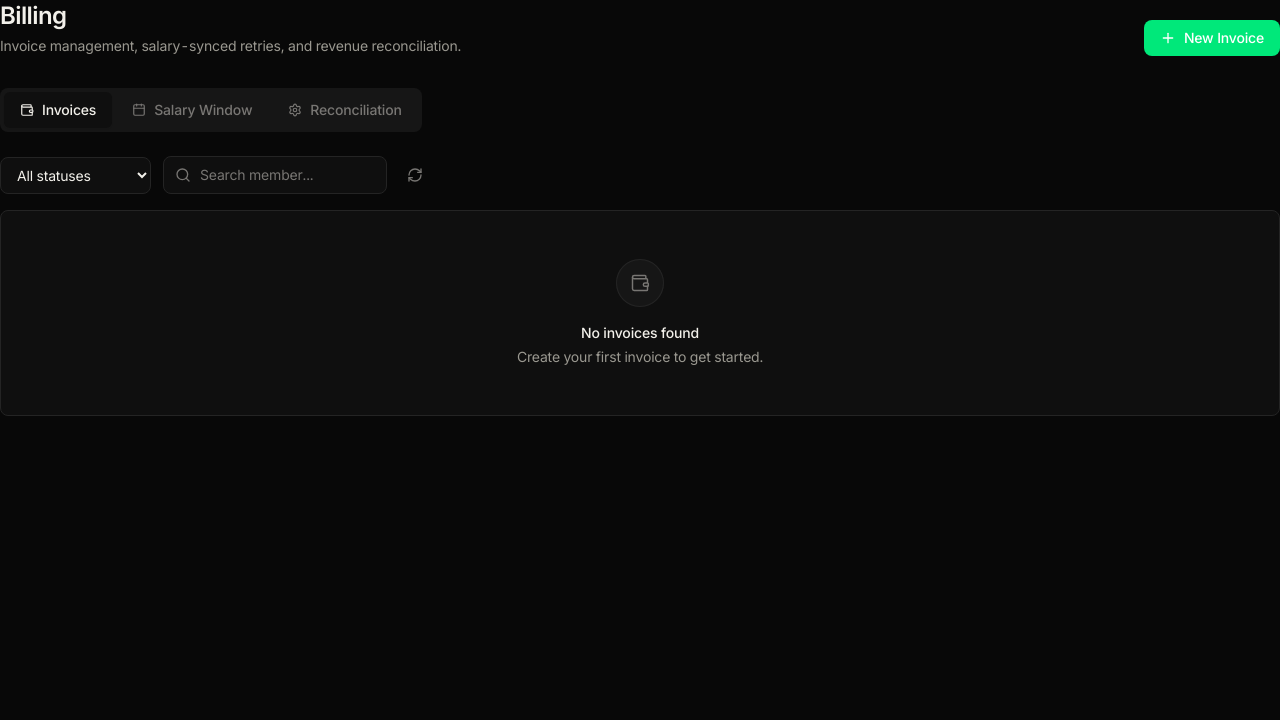
Test: BillingClient — New Invoice Modal › closes modal when clicking the X button
Click the button "New Invoice".
click(1212, 38)  # box [1144,20,1279,56]
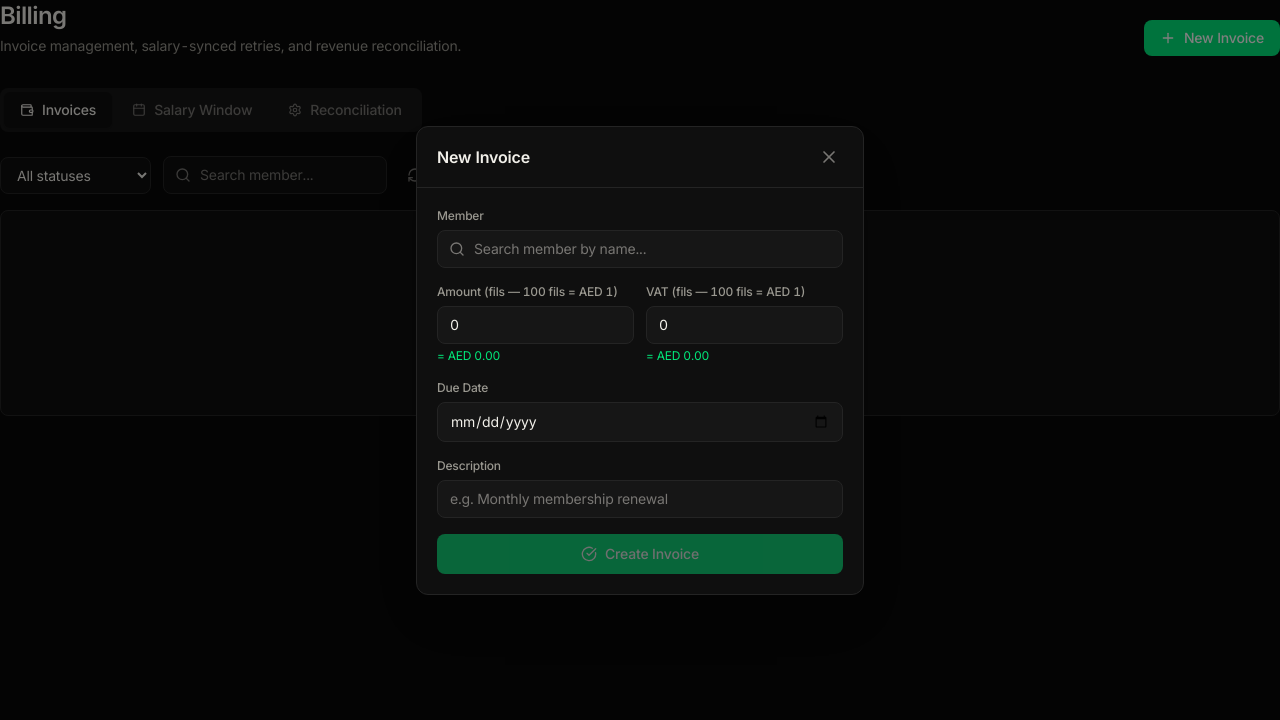
Click the 1st button.
click(829, 156)  # box [815,142,843,170]
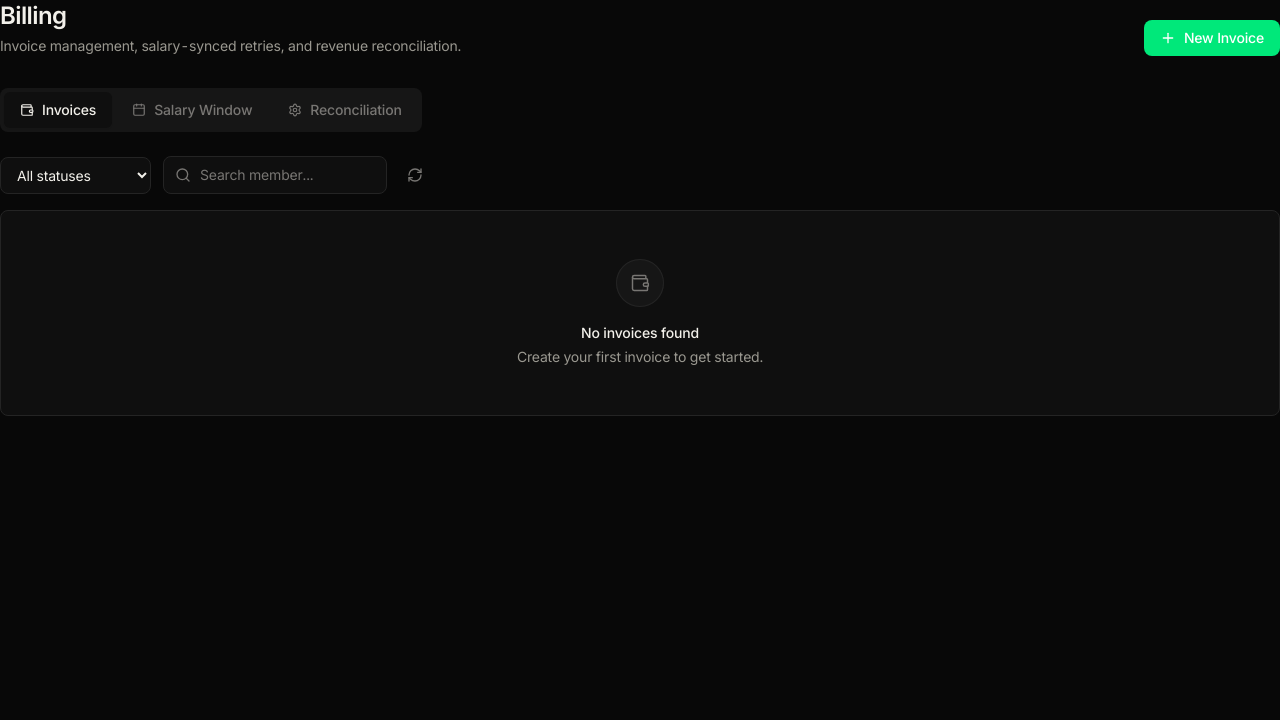
Expected: the button "Create Invoice" is gone
